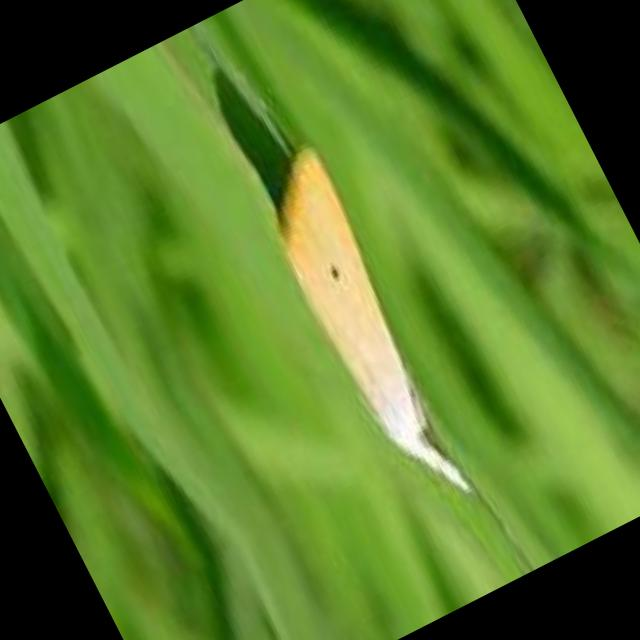stem-borer: (242, 136, 492, 523)
